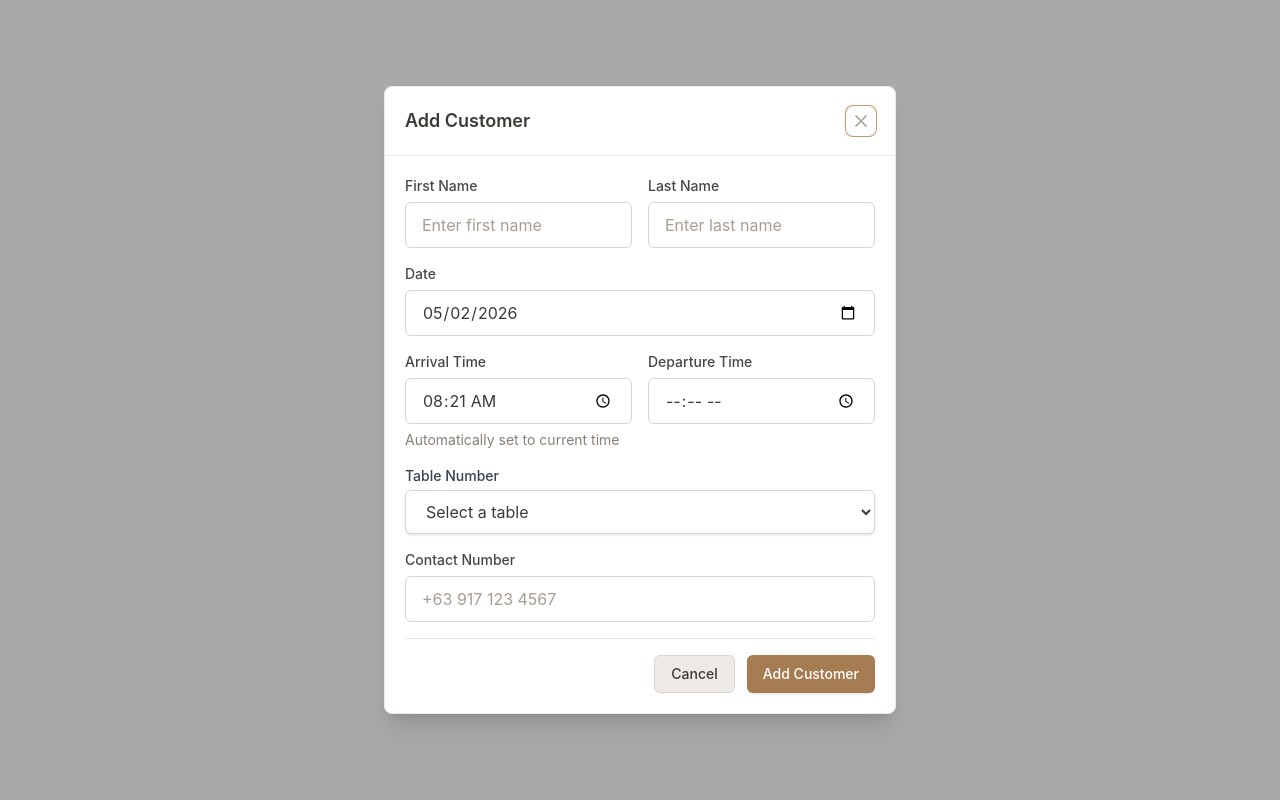
Test case: AddCustomerModal › should display table preview when table is selected
Select "Table No. 1 - 2 seats" in the dropdown labelled "Table Number". click: (640, 512)
box: [405,490,875,534]
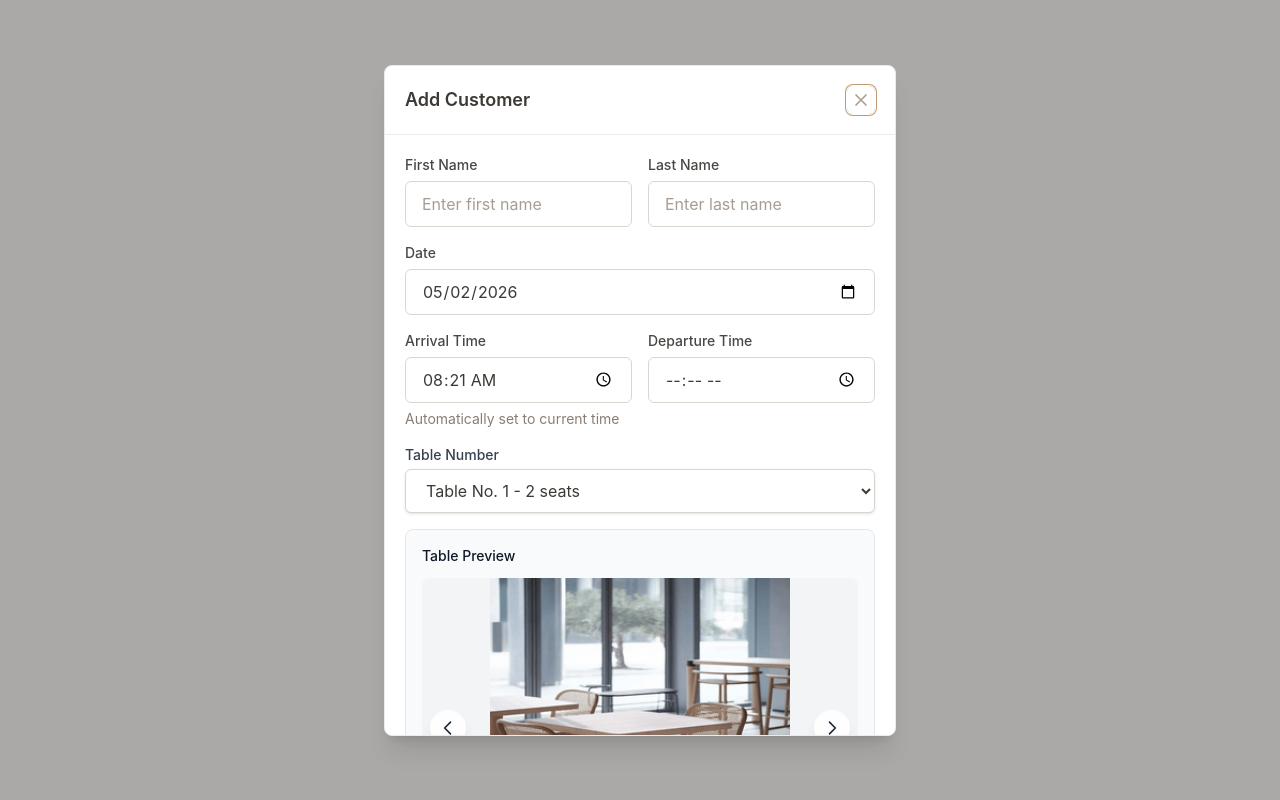
Result: the heading "Table Preview" is shown at [422,546,516,564]
